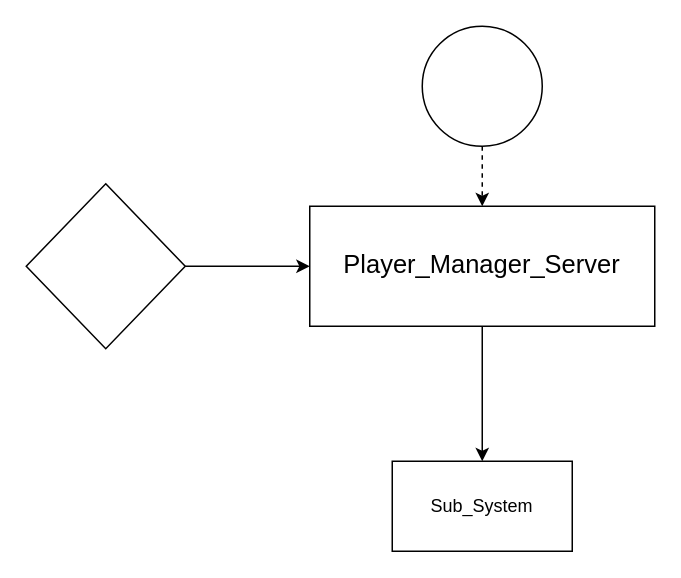
This 681x578 diagram has some shape labels left out. Each missing label, with the box of its shape:
Main_Package: (421, 25, 542, 146)
Player_Joined: (25, 182, 185, 349)
